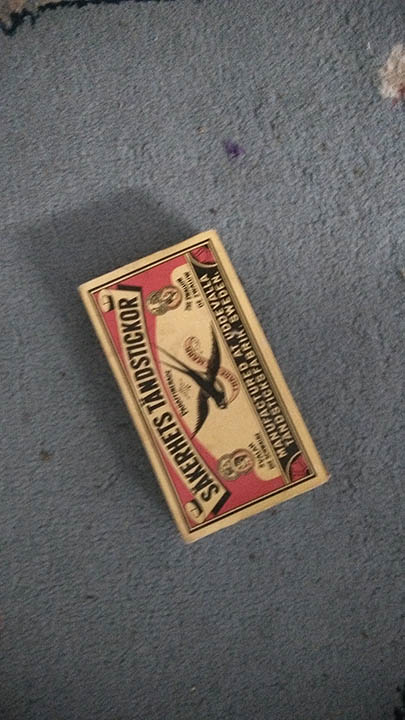match-sticks .90$: (69, 232, 334, 536)
